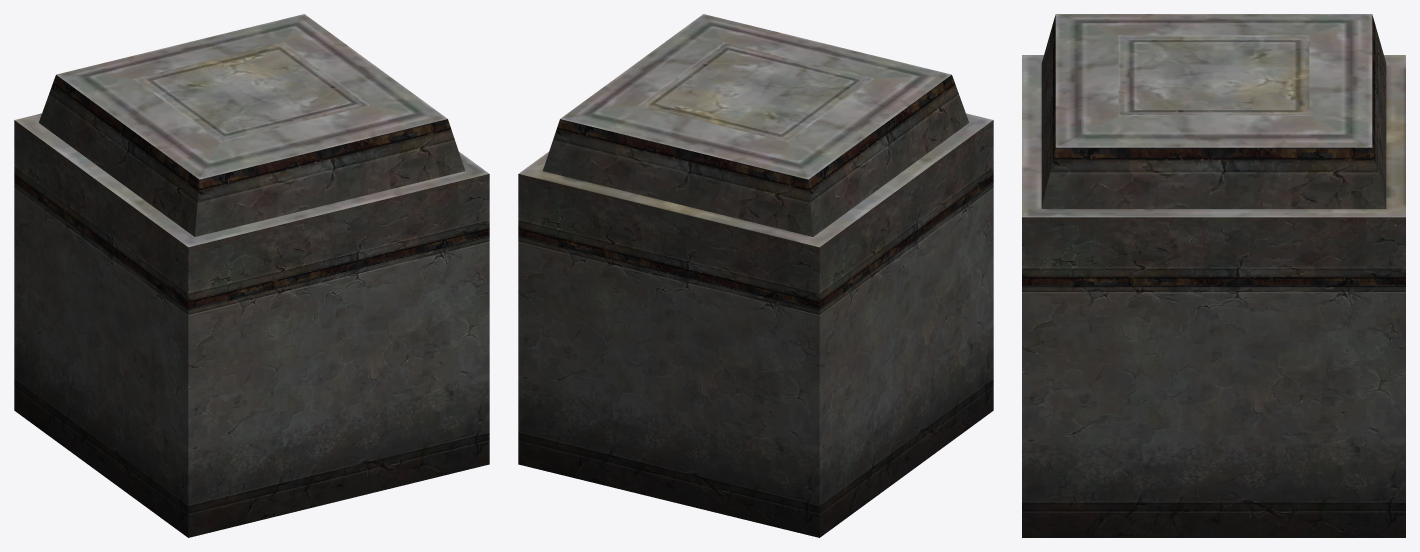
The model's file is bel_arch_rakata_raid_energy_obelisk_base.glb.
3 views of the same model, side by side, from view 1: azimuth 30°, elevation 25°; view 2: azimuth 150°, elevation 25°; view 3: azimuth 270°, elevation 25° (orthographic). The views are drawn at different scales.
Visible parts, largest first — view 1: bel_arch_rakata_raid_energy_obelisk_base; view 2: bel_arch_rakata_raid_energy_obelisk_base; view 3: bel_arch_rakata_raid_energy_obelisk_base.
Boxes of the visible parts, x1,y1,x2,y2 form: bel_arch_rakata_raid_energy_obelisk_base: (14,14,489,537); bel_arch_rakata_raid_energy_obelisk_base: (518,14,993,537); bel_arch_rakata_raid_energy_obelisk_base: (1022,14,1405,537).
Bounding box in the file's own units: 0.8677 × 0.9508 × 0.8677.
Materials: 2 (2 with a texture image).
